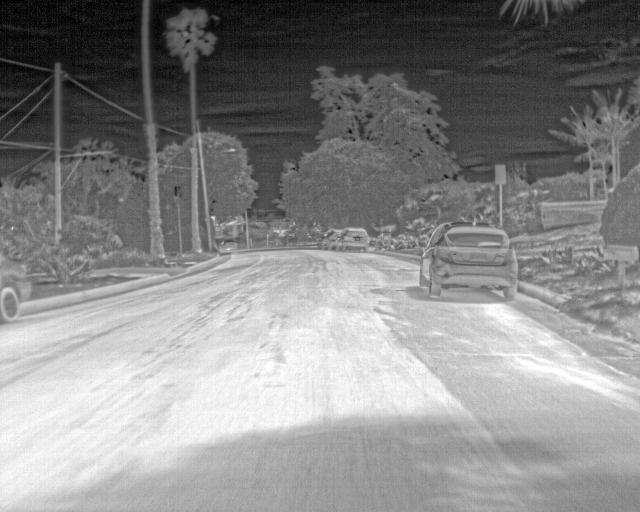car: (419, 223, 519, 302), (0, 255, 33, 324), (338, 225, 370, 251), (321, 229, 339, 248), (221, 237, 238, 254)
